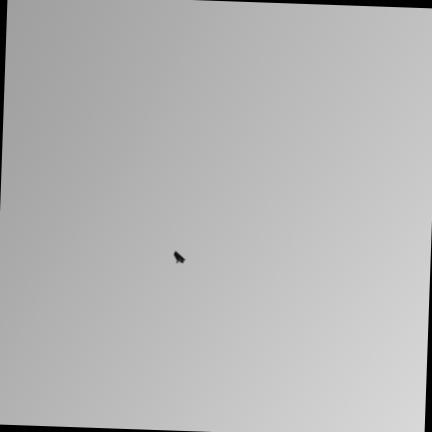Shahed: (173, 250, 186, 263)
